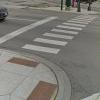Crosswalk: (36, 4, 87, 69)
